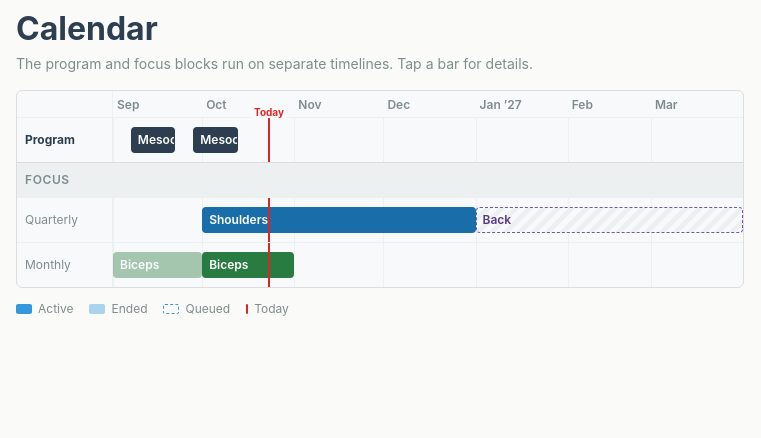
FocusCalendar › shows a phase’s dates and length
Click the button "Mesocycle 1".
click(153, 140)  # box [131,127,175,153]
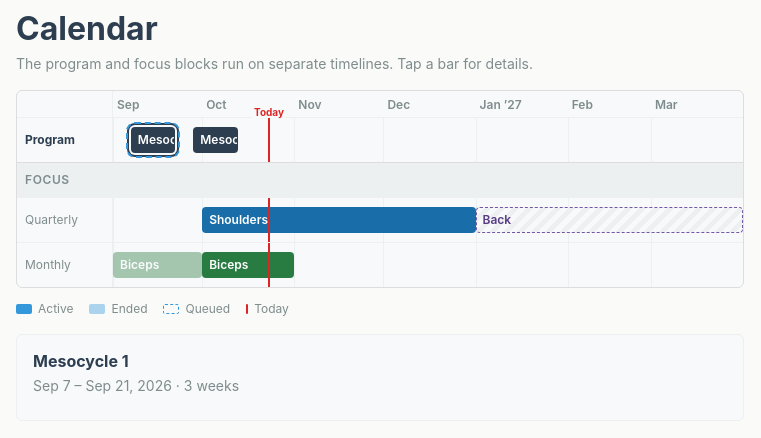
Check: the text "Sep 7 – Sep 21, 2026 · 3 weeks" is shown, box [33,377,239,394]
